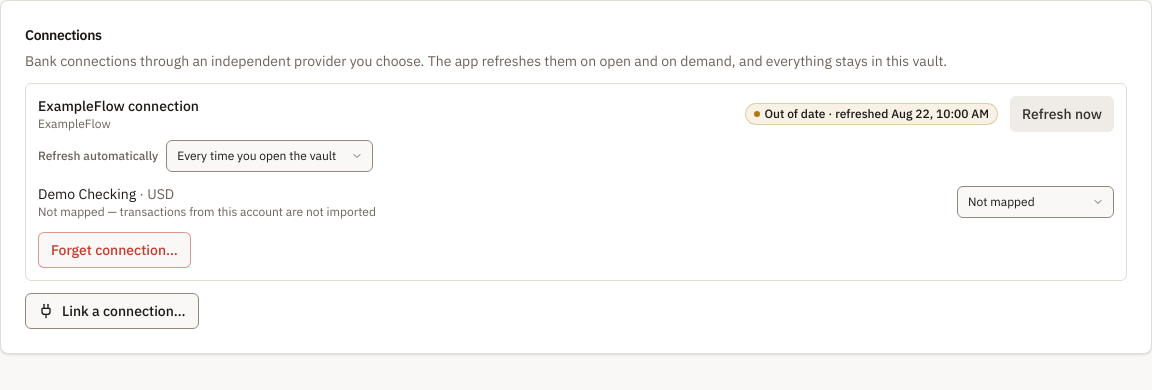
ConnectionsCard › names each connection's provider from the registry, never hardcoded
The image size is (1152, 390).
Expected: the text "ExampleFlow connection" is shown, [38, 97, 199, 115]
Click the button "Forget connection…": [114, 250] box [38, 232, 191, 268]
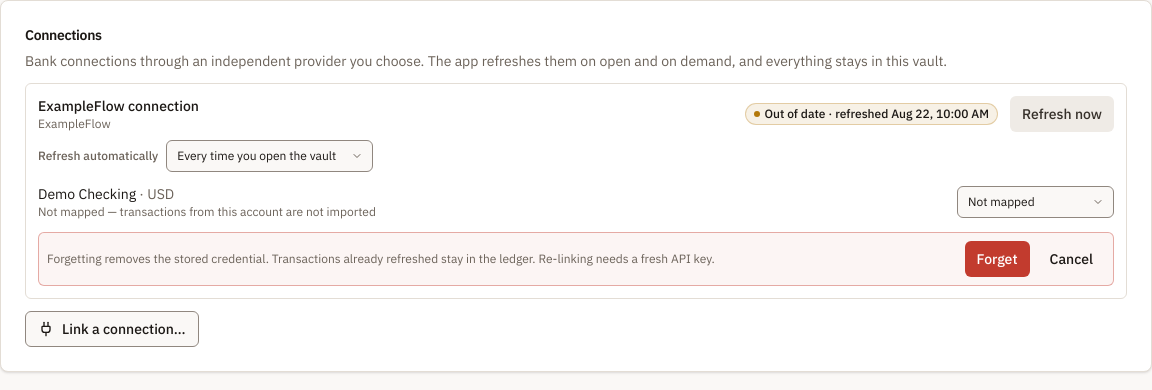
Now the text "Re-linking needs a fresh API key." is shown, box [47, 251, 715, 266]
